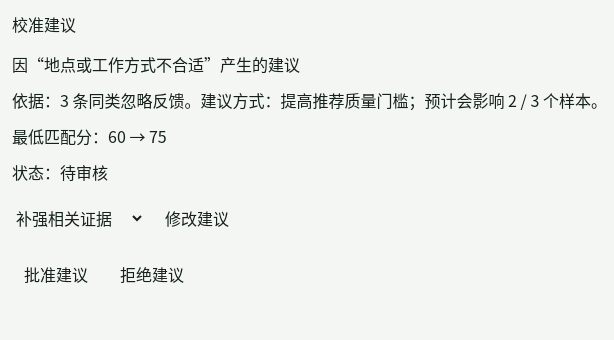
Test: 将 Server Action 失败映射为屏幕阅读器可读错误
Click the button "拒绝建议". click: point(152, 274)
box: [108,252,196,296]
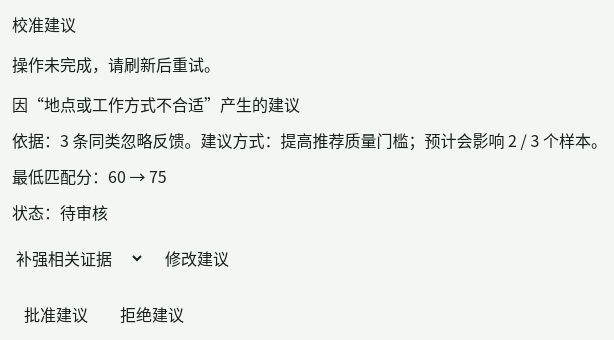
Check: the message reads "操作未完成，请刷新后重试。", box [12,52,220,76]
